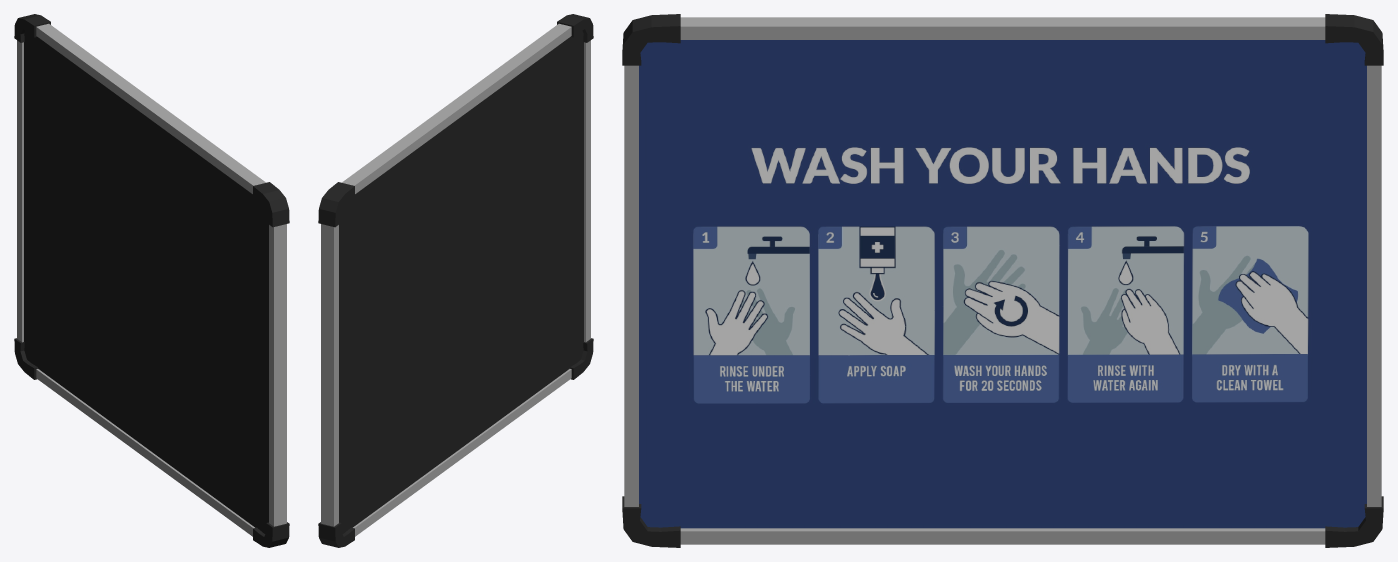
The model's file is board_wash_hand_horizontal.dae.
The picture shows the model from 3 angles, left to right: view 1: azimuth 30°, elevation 25°; view 2: azimuth 150°, elevation 25°; view 3: azimuth 270°, elevation 25°; orthographic projection. The views are drawn at different scales.
Parts seen in each view (by area): view 1: Cube.1, Cube.003, Cube, Cube.002, Cube.004, Cube.005, Cube.008, Cube.006, Cube.007; view 2: Cube.1, Cube.004, Cube, Cube.002, Cube.003, Cube.006, Cube.007, Cube.005, Cube.008; view 3: Cube.1, Cube, Cube.002, Cube.004, Cube.003, Cube.006, Cube.005, Cube.007, Cube.008.
Part boxes in pixels (left/top/right/bottom): Cube.1: left=24, top=31, right=268, bottom=534; Cube.003: left=269, top=224, right=286, bottom=526; Cube: left=36, top=23, right=265, bottom=193; Cube.002: left=36, top=369, right=254, bottom=536; Cube.004: left=17, top=40, right=23, bottom=342; Cube.005: left=253, top=182, right=289, bottom=227; Cube.008: left=253, top=522, right=289, bottom=547; Cube.006: left=14, top=14, right=50, bottom=42; Cube.007: left=14, top=338, right=37, bottom=379; Cube.1: left=339, top=31, right=583, bottom=534; Cube.004: left=321, top=224, right=338, bottom=526; Cube: left=342, top=23, right=571, bottom=193; Cube.002: left=353, top=369, right=571, bottom=536; Cube.003: left=584, top=40, right=590, bottom=342; Cube.006: left=318, top=182, right=354, bottom=227; Cube.007: left=318, top=522, right=354, bottom=547; Cube.005: left=557, top=14, right=593, bottom=42; Cube.008: left=570, top=338, right=593, bottom=379; Cube.1: left=639, top=40, right=1366, bottom=528; Cube: left=680, top=17, right=1325, bottom=39; Cube.002: left=680, top=528, right=1325, bottom=544; Cube.004: left=1367, top=65, right=1381, bottom=506; Cube.003: left=624, top=65, right=638, bottom=506; Cube.006: left=1325, top=14, right=1383, bottom=65; Cube.005: left=622, top=14, right=680, bottom=65; Cube.007: left=1325, top=496, right=1383, bottom=547; Cube.008: left=622, top=496, right=680, bottom=547.
Bounding box in the file's own units: 0.0292 × 0.7795 × 0.5895.
